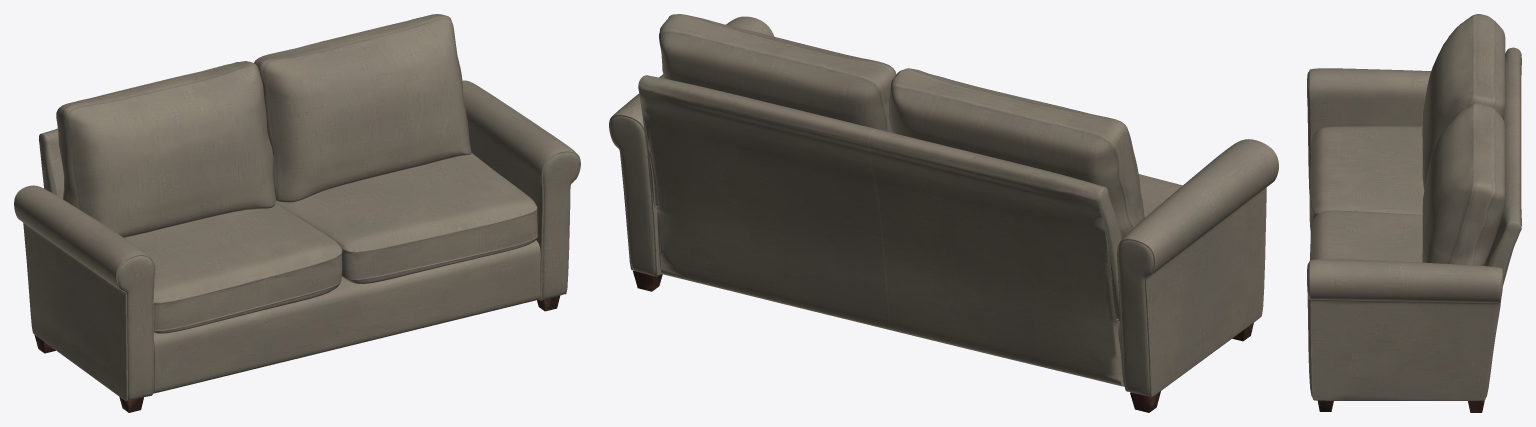
File: B07DBDZ56D.glb
3 views of the same model, side by side, from view 1: azimuth 30°, elevation 25°; view 2: azimuth 150°, elevation 25°; view 3: azimuth 270°, elevation 25° (orthographic). The views are drawn at different scales.
Visible parts, largest first — view 1: RootNode; view 2: RootNode; view 3: RootNode.
Part boxes in pixels (x1=…): RootNode: x1=14, y1=14, x2=580, y2=412; RootNode: x1=609, y1=14, x2=1278, y2=412; RootNode: x1=1307, y1=14, x2=1521, y2=412.
Size of the model in its own units: 1.93 by 0.9422 by 0.8423.
1 material, 1 textured.
